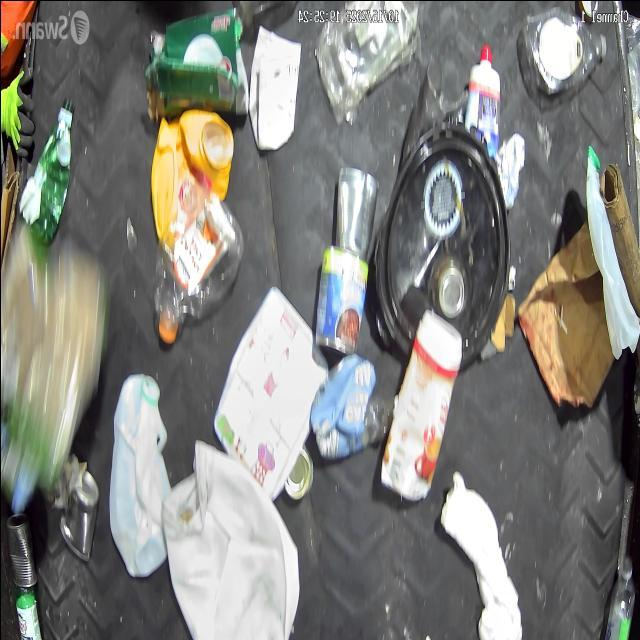can: (313, 242, 369, 358), (333, 162, 379, 262), (56, 466, 100, 564), (5, 509, 37, 589), (282, 443, 314, 502)
milk_jug: (159, 436, 300, 640), (106, 366, 171, 578), (584, 143, 640, 363)
non_white_jug: (148, 108, 234, 248)
plastic_bottle: (150, 198, 242, 346), (314, 391, 398, 461), (602, 550, 636, 640)
